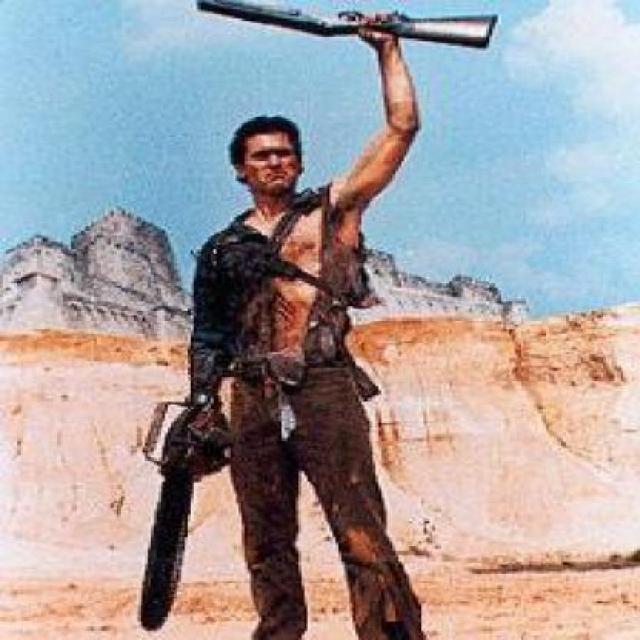Chainsaw: (128, 397, 232, 632)
